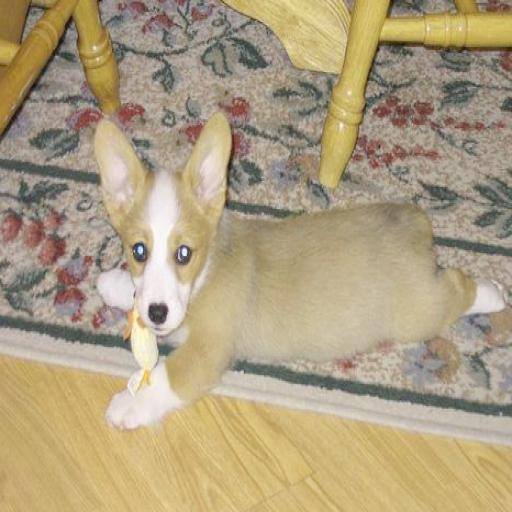dog_face: (89, 113, 237, 348)
